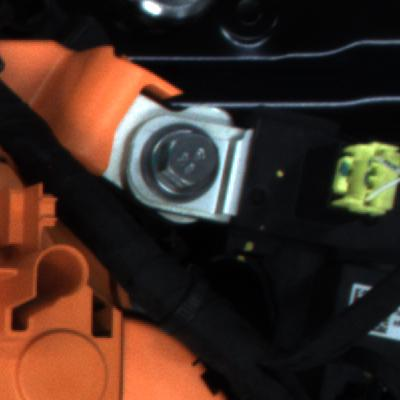nut_b: (143, 121, 232, 209)
